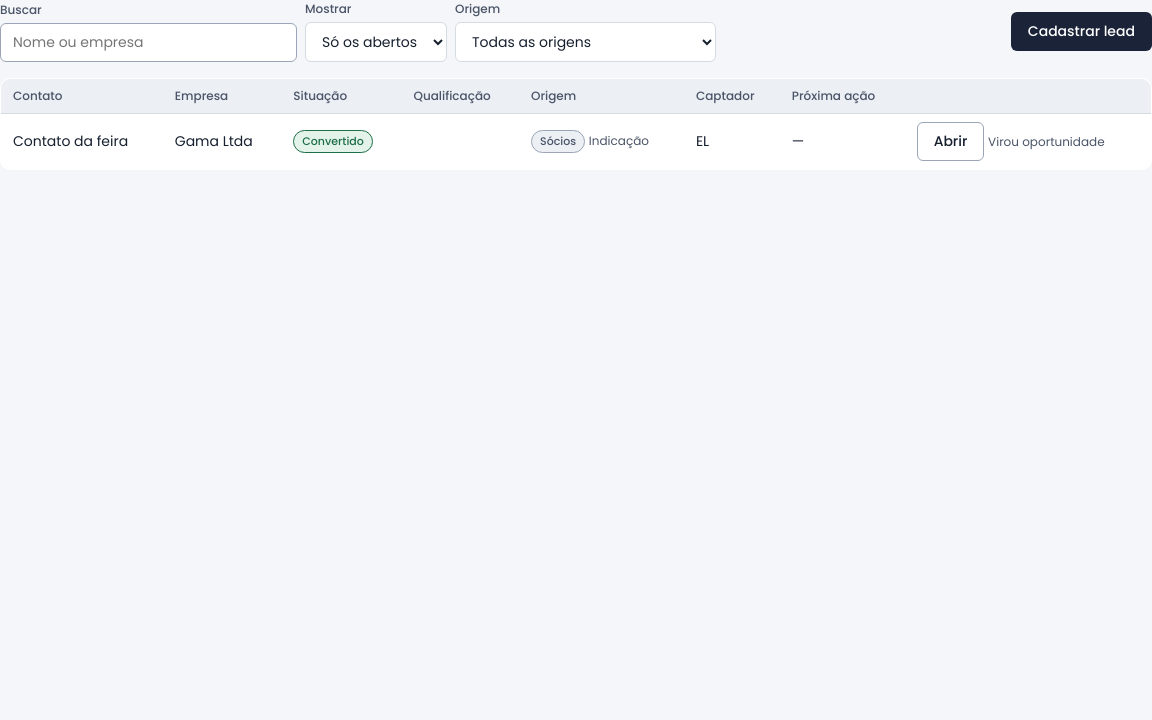
Scenario: edição da situação › lead já convertido não mostra o seletor de situação
Expected: the text "Contato da feira" is shown, [0,114,163,170]
Click the button "Abrir". click: (950, 142)
box: [917,122,984,161]
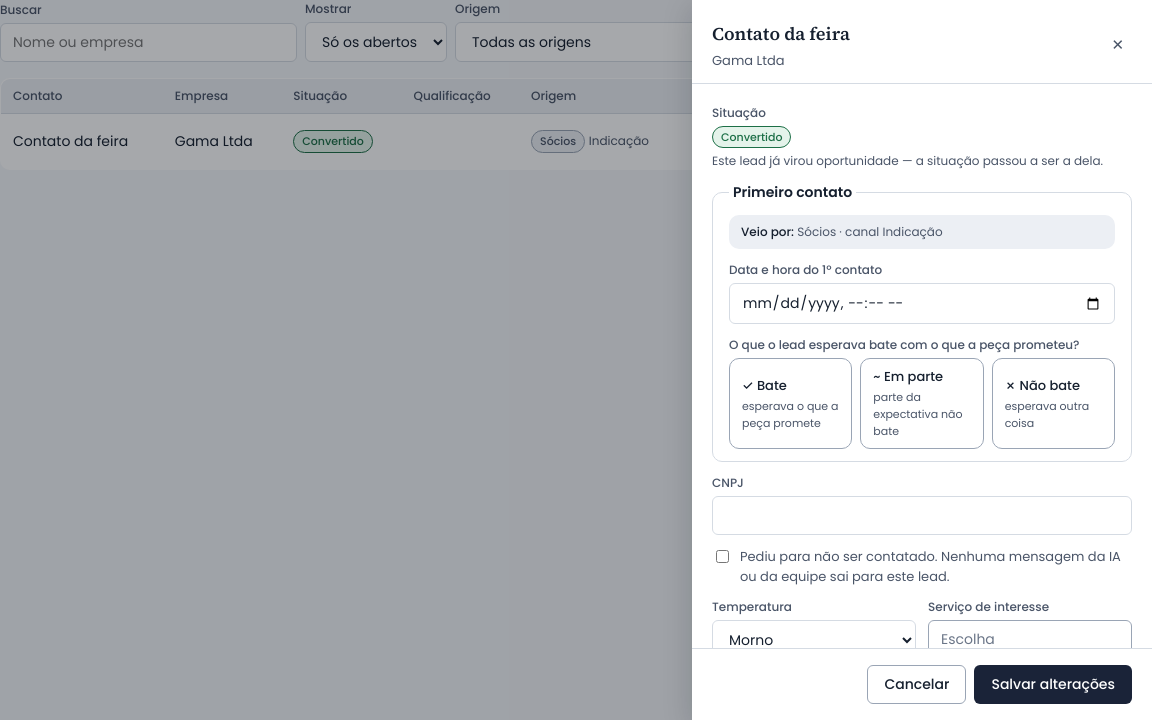
Now the text "já virou oportunidade" is shown, box [712,152,1103,169]
